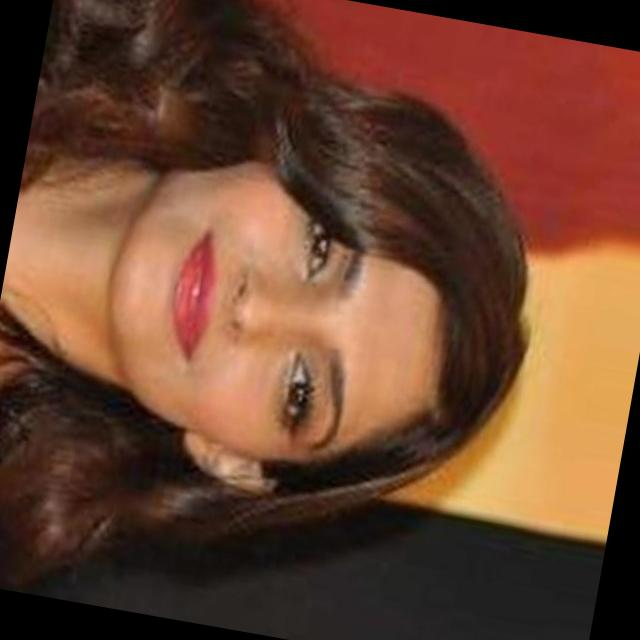bareface: (99, 92, 520, 527)
